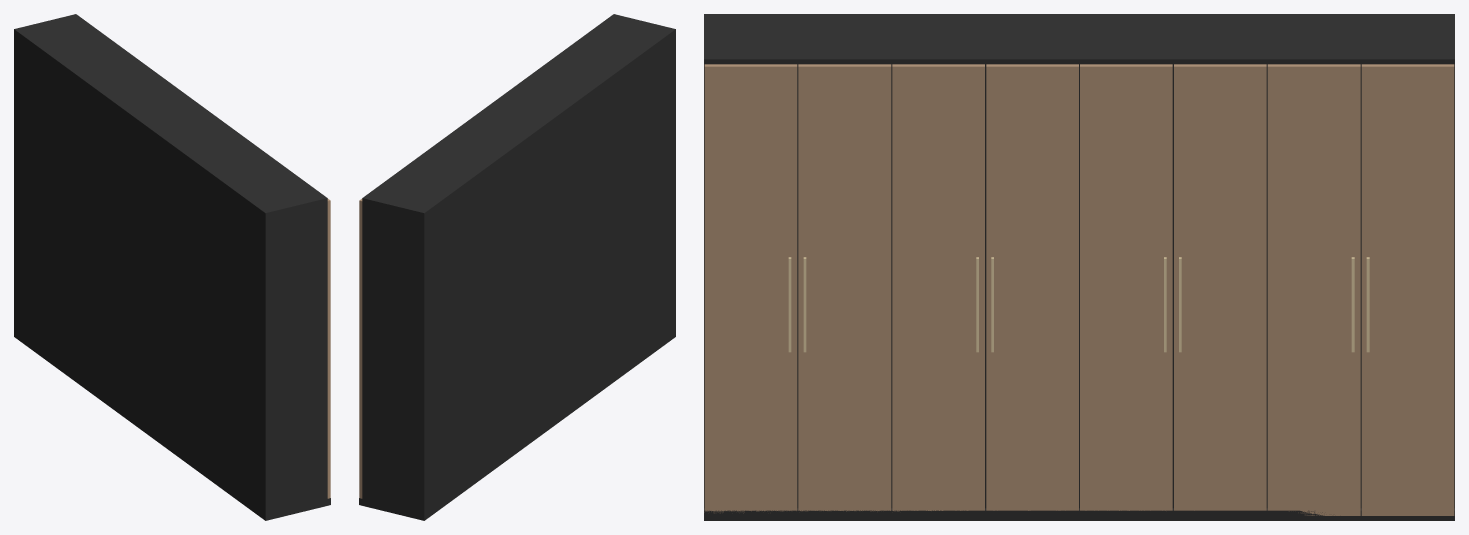
File: SM_Wardrobe_Bedroom.fbx
3 views of the same model, side by side, from view 1: azimuth 30°, elevation 25°; view 2: azimuth 150°, elevation 25°; view 3: azimuth 270°, elevation 25° (orthographic). The views are drawn at different scales.
Visible parts, largest first — view 1: SM_Wardrobe_Bedroom; view 2: SM_Wardrobe_Bedroom; view 3: SM_Wardrobe_Bedroom.
Part boxes in pixels (left/top/right/bottom): SM_Wardrobe_Bedroom: left=14, top=14, right=330, bottom=520; SM_Wardrobe_Bedroom: left=359, top=14, right=675, bottom=520; SM_Wardrobe_Bedroom: left=704, top=14, right=1454, bottom=520.
Size of the model in its own units: 61.8 by 270 by 400.
